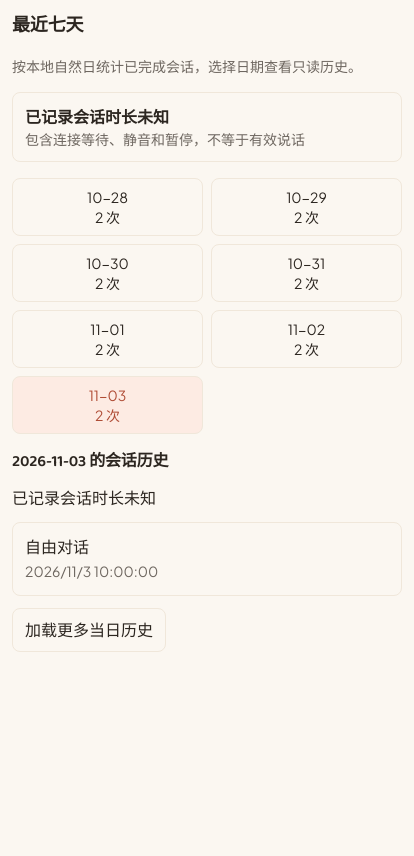
it: WeeklyProgress 请求归属与只读历史 › 重复游标或窗外历史失败关闭，绝不把其他日期数据混入
Click the button "加载更多当日历史" at (89, 630), box [12,608,166,652]
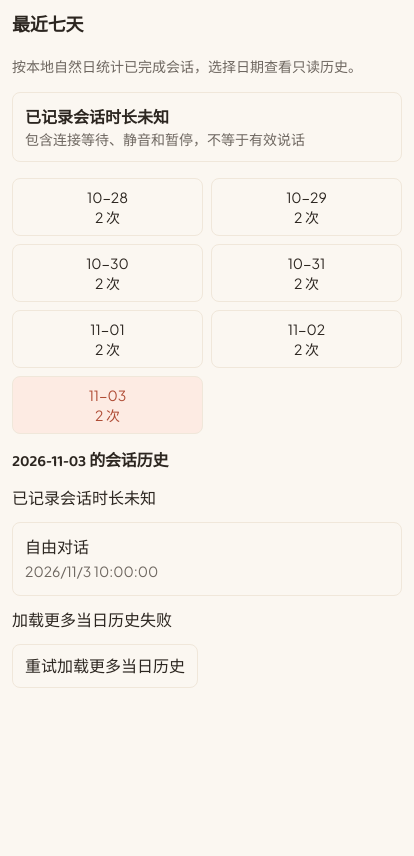
Check: the message reads "加载更多当日历史失败", box [12,609,172,630]
Click the button "11-02 2 次" at (306, 339), box [211,310,402,368]
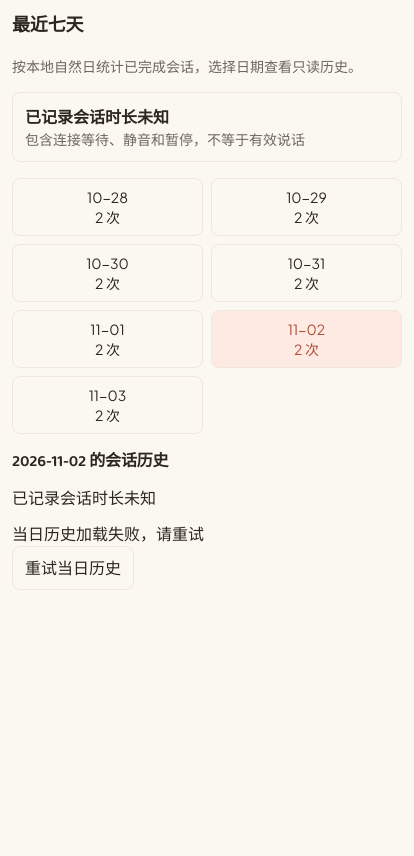
Check: the message shows "当日历史加载失败，请重试", box [12,523,204,544]
